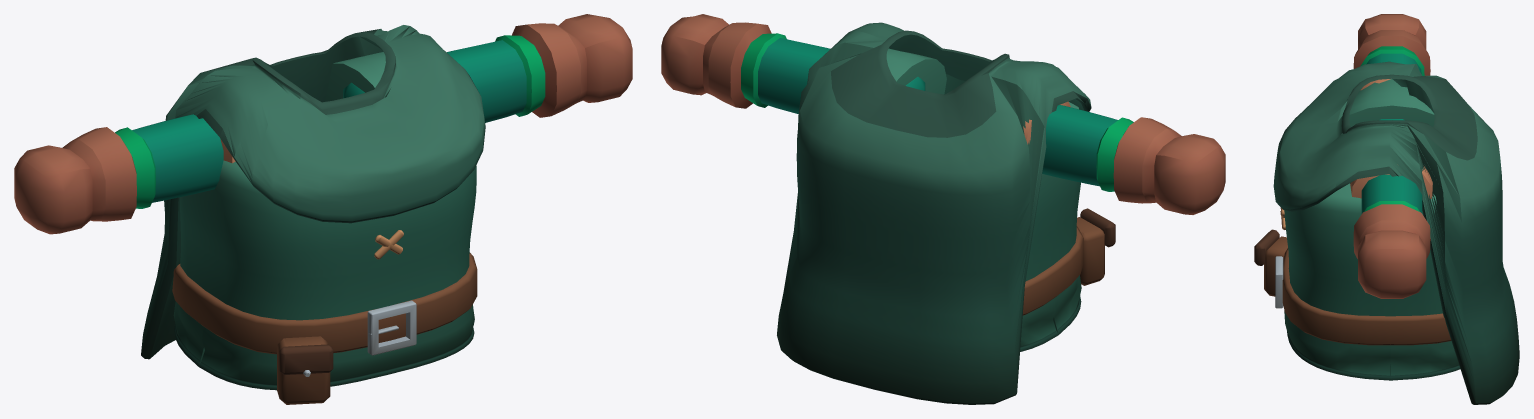
The model's file is ranger_coat.glb.
The picture shows the model from 3 angles, left to right: view 1: azimuth 30°, elevation 25°; view 2: azimuth 150°, elevation 25°; view 3: azimuth 270°, elevation 25°; orthographic projection. The views are drawn at different scales.
Visible parts, largest first — view 1: Item; view 2: Item; view 3: Item.
Boxes of the visible parts, x1,y1,x2,y2 form: Item: [14, 14, 632, 404]; Item: [661, 14, 1225, 404]; Item: [1254, 14, 1519, 404].
Bounding box in the file's own units: 1.94 × 0.9783 × 0.9042.
Materials: 4 (4 with a texture image).
